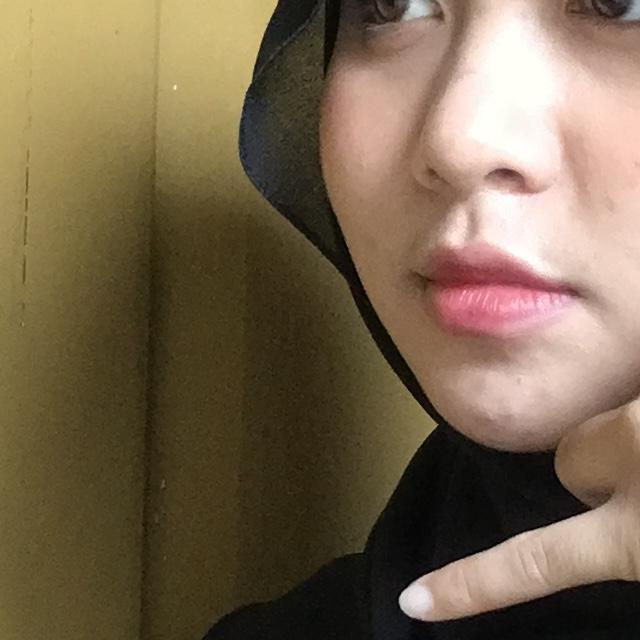telpon: (310, 26, 640, 640)
